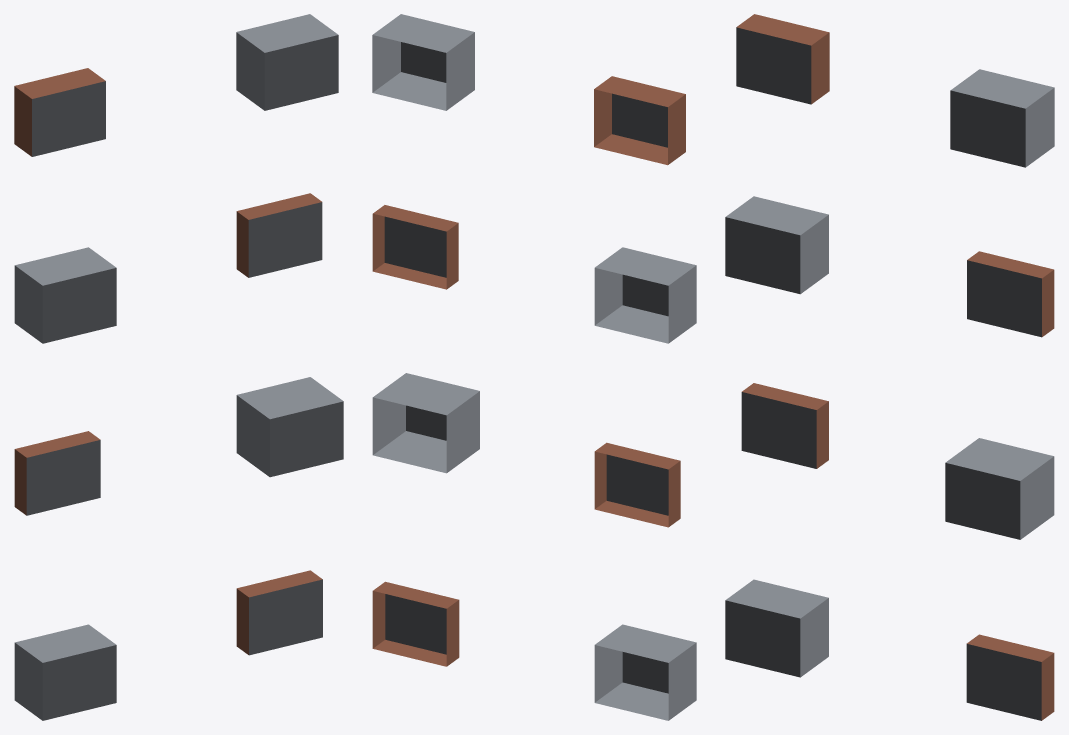
Rendered from island_bldg_20_08.obj.
The picture shows the model from 3 angles, left to right: view 1: azimuth 30°, elevation 25°; view 2: azimuth 150°, elevation 25°; view 3: azimuth 330°, elevation 25°; orthographic projection.
Parts seen in each view (by area): view 1: island_bldg_20_08; view 2: island_bldg_20_08; view 3: island_bldg_20_08.
Part boxes in pixels (bbox=[...]): island_bldg_20_08: bbox=[14, 14, 343, 720]; island_bldg_20_08: bbox=[372, 14, 696, 720]; island_bldg_20_08: bbox=[725, 14, 1054, 720].
Bounding box in the file's own units: 128 × 254 × 25.44.
